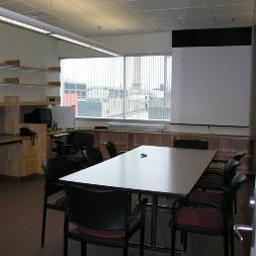Ventana: (60, 60, 127, 120), (125, 56, 173, 122)
